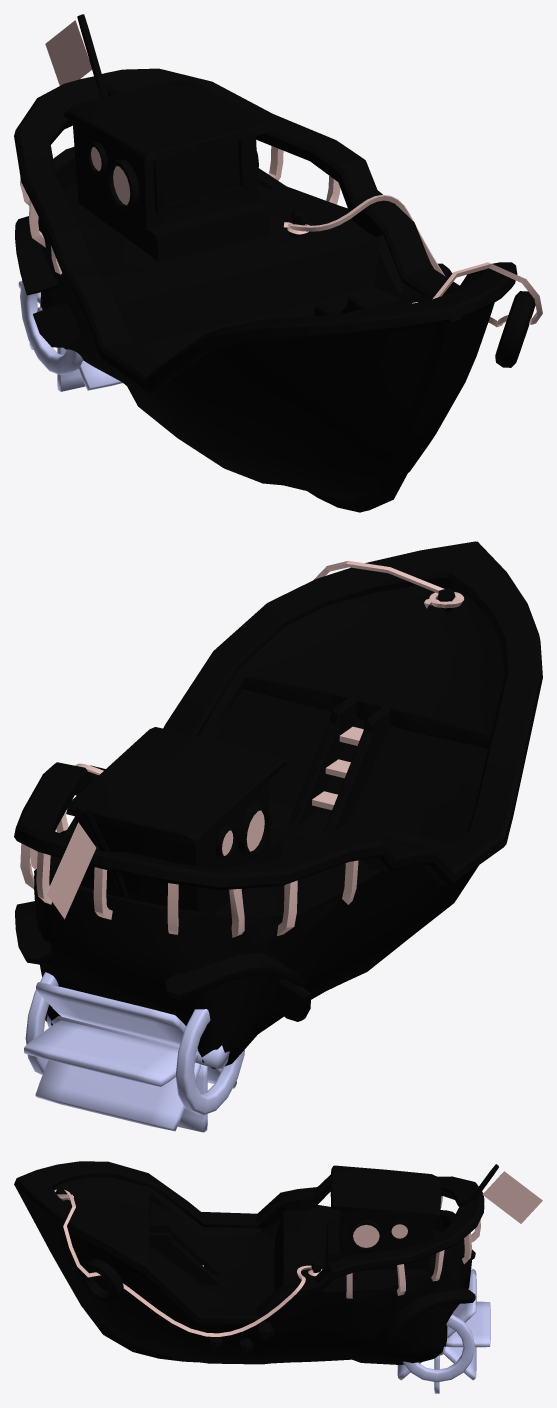
File: Wheel_Boat_07_Lp.fbx
3 renders of one model, top to bottom at view 1: azimuth 30°, elevation 25°; view 2: azimuth 150°, elevation 25°; view 3: azimuth 270°, elevation 25°, orthographic. The views are drawn at different scales.
Parts seen in each view (by area): view 1: Boat_UVs_Lp, Wheel_Lp; view 2: Boat_UVs_Lp, Wheel_Lp; view 3: Boat_UVs_Lp, Wheel_Lp.
Part boxes in pixels (x1,y1,x2,y2): Boat_UVs_Lp: (14,14,542,512); Wheel_Lp: (18,280,122,391); Boat_UVs_Lp: (14,541,542,1068); Wheel_Lp: (24,972,244,1132); Boat_UVs_Lp: (14,1161,542,1364); Wheel_Lp: (397,1269,490,1393).
Size of the model in its own units: 117 by 103 by 235.
